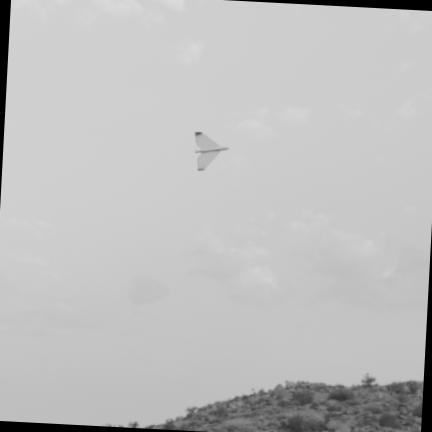Shahed: (196, 132, 229, 170)
